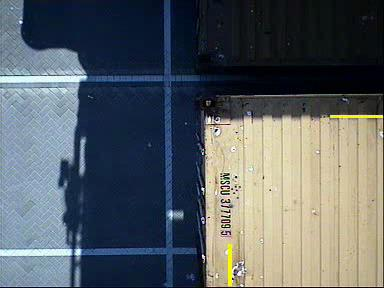groundmarker_2: (53, 64, 143, 125)
